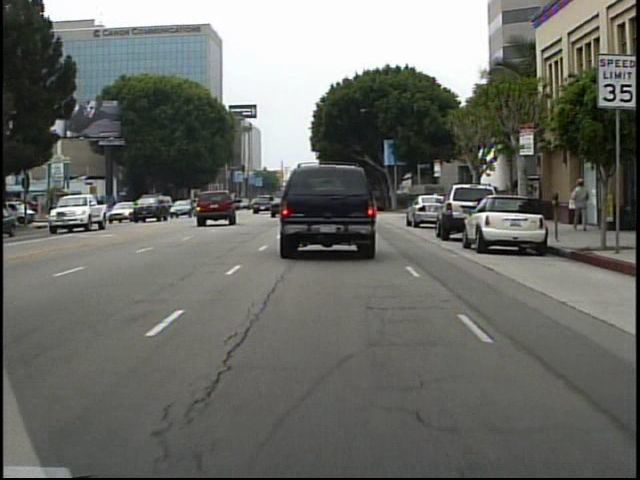person: (566, 174, 592, 237), (469, 178, 487, 220), (53, 199, 55, 226)
